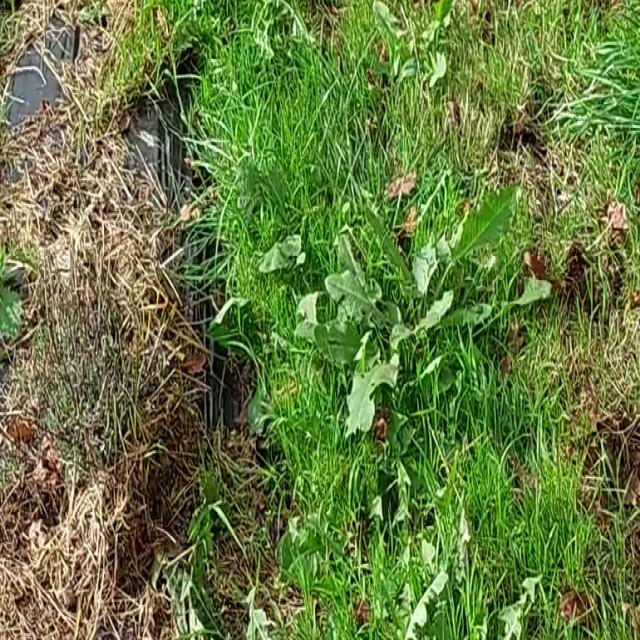organic waste: (282, 187, 544, 468)
